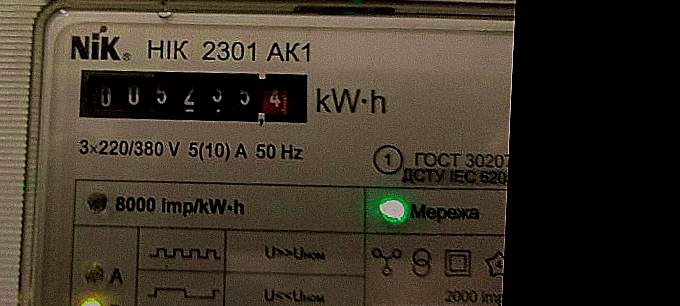0: (124, 81, 141, 106), (96, 82, 112, 107)
2: (180, 79, 197, 106)
3: (207, 78, 225, 103)
4: (264, 80, 284, 110)
5: (235, 78, 252, 107), (153, 79, 168, 105)
screen: (65, 52, 318, 135)
